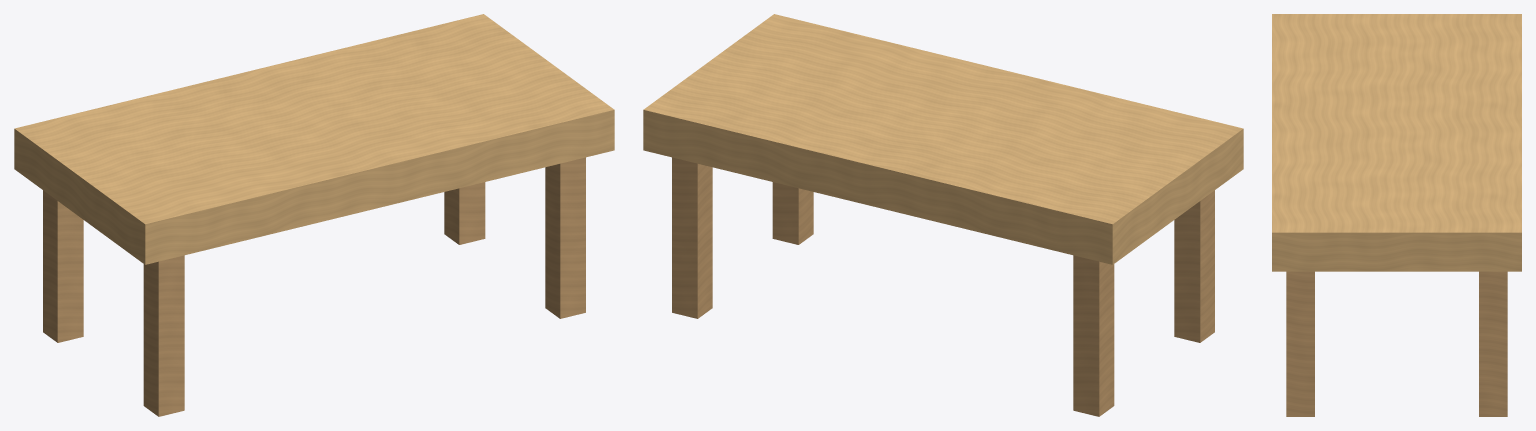
File: 07_coffee_table.glb
The picture shows the model from 3 angles, left to right: view 1: azimuth 30°, elevation 25°; view 2: azimuth 150°, elevation 25°; view 3: azimuth 270°, elevation 25°; orthographic projection. The views are drawn at different scales.
Parts seen in each view (by area): view 1: Top, Intact, Top_fragment_32, Leg_02, Top_fragment_14, Top_fragment_20, Top_fragment_3, Top_fragment_47, Leg_03_fragment_1, Leg_03, Top_fragment_36, Leg_04; view 2: Top, Intact, Top_fragment_66, Top_fragment_47, Leg_04, Leg_03, Top_fragment_64, Leg_01, Top_fragment_32, Top_fragment_14, Leg_02, Top_fragment_20 (+6 smaller); view 3: Top, Intact, Top_fragment_32, Leg_02, Top_fragment_14, Leg_04_fragment_1, Top_fragment_64, Leg_04_fragment_2, Top_fragment_20, Leg_04, Top_fragment_36, Top_fragment_3 (+2 smaller).
Part boxes in pixels (left/top/right/bottom): Top: left=14, top=14, right=614, bottom=264; Intact: left=31, top=120, right=614, bottom=416; Top_fragment_32: left=439, top=99, right=614, bottom=151; Leg_02: left=545, top=164, right=560, bottom=318; Top_fragment_14: left=187, top=145, right=383, bottom=201; Top_fragment_20: left=346, top=125, right=443, bottom=165; Top_fragment_3: left=112, top=181, right=244, bottom=256; Top_fragment_47: left=14, top=129, right=69, bottom=205; Leg_03_fragment_1: left=43, top=246, right=57, bottom=342; Leg_03: left=43, top=190, right=57, bottom=333; Top_fragment_36: left=413, top=114, right=480, bottom=142; Leg_04: left=444, top=189, right=459, bottom=244; Top: left=643, top=22, right=1243, bottom=264; Intact: left=697, top=14, right=1243, bottom=416; Top_fragment_66: left=728, top=130, right=944, bottom=223; Top_fragment_47: left=945, top=183, right=1137, bottom=264; Leg_04: left=672, top=157, right=712, bottom=318; Leg_03: left=1073, top=255, right=1110, bottom=416; Top_fragment_64: left=643, top=110, right=728, bottom=170; Leg_01: left=1174, top=201, right=1200, bottom=342; Top_fragment_32: left=760, top=14, right=943, bottom=62; Top_fragment_14: left=987, top=70, right=1151, bottom=114; Leg_02: left=772, top=182, right=813, bottom=244; Top_fragment_20: left=898, top=55, right=1004, bottom=91; Top: left=1272, top=14, right=1521, bottom=271; Intact: left=1272, top=14, right=1521, bottom=416; Top_fragment_32: left=1272, top=153, right=1367, bottom=271; Leg_02: left=1286, top=271, right=1314, bottom=416; Top_fragment_14: left=1272, top=56, right=1322, bottom=125; Leg_04_fragment_1: left=1479, top=334, right=1507, bottom=416; Top_fragment_64: left=1400, top=232, right=1521, bottom=271; Leg_04_fragment_2: left=1479, top=272, right=1507, bottom=334; Top_fragment_20: left=1272, top=121, right=1333, bottom=157; Leg_04: left=1479, top=271, right=1507, bottom=416; Top_fragment_36: left=1293, top=155, right=1400, bottom=271; Top_fragment_3: left=1272, top=14, right=1339, bottom=63.
Size of the model in its own units: 1.45 by 0.6 by 0.7.
Materials: 7 (7 with a texture image).
